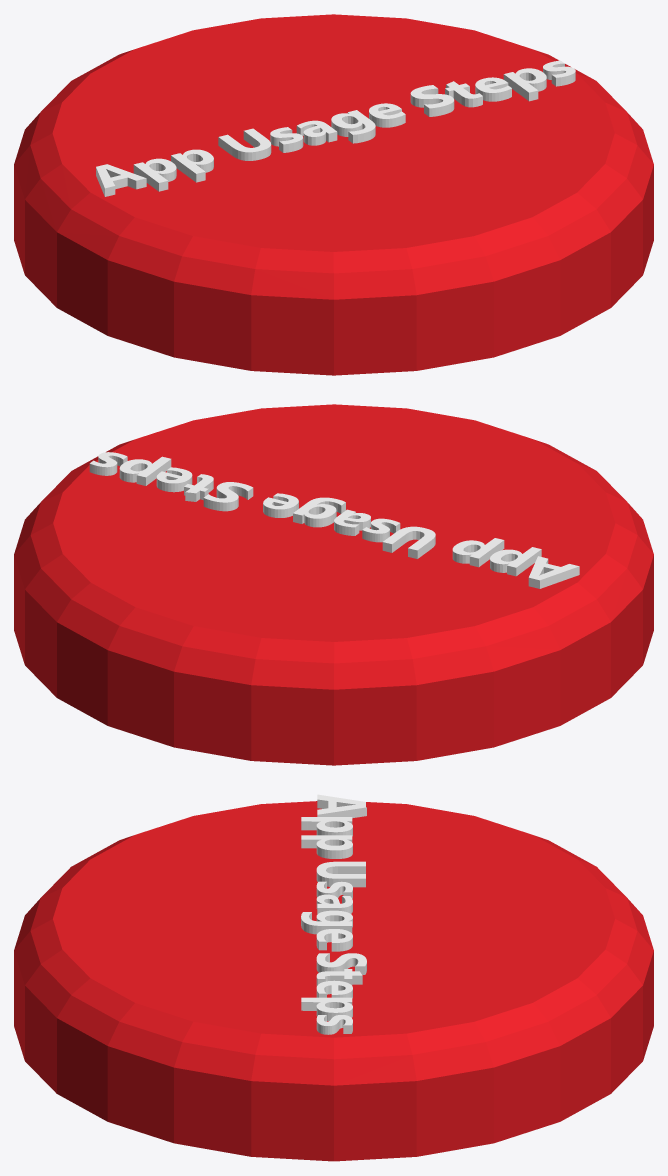
File: buttonInfinity.glb
The picture shows the model from 3 angles, top to bottom: view 1: azimuth 30°, elevation 25°; view 2: azimuth 150°, elevation 25°; view 3: azimuth 270°, elevation 25°; orthographic projection.
Size of the model in its own units: 0.1294 by 0.0259 by 0.1294.
